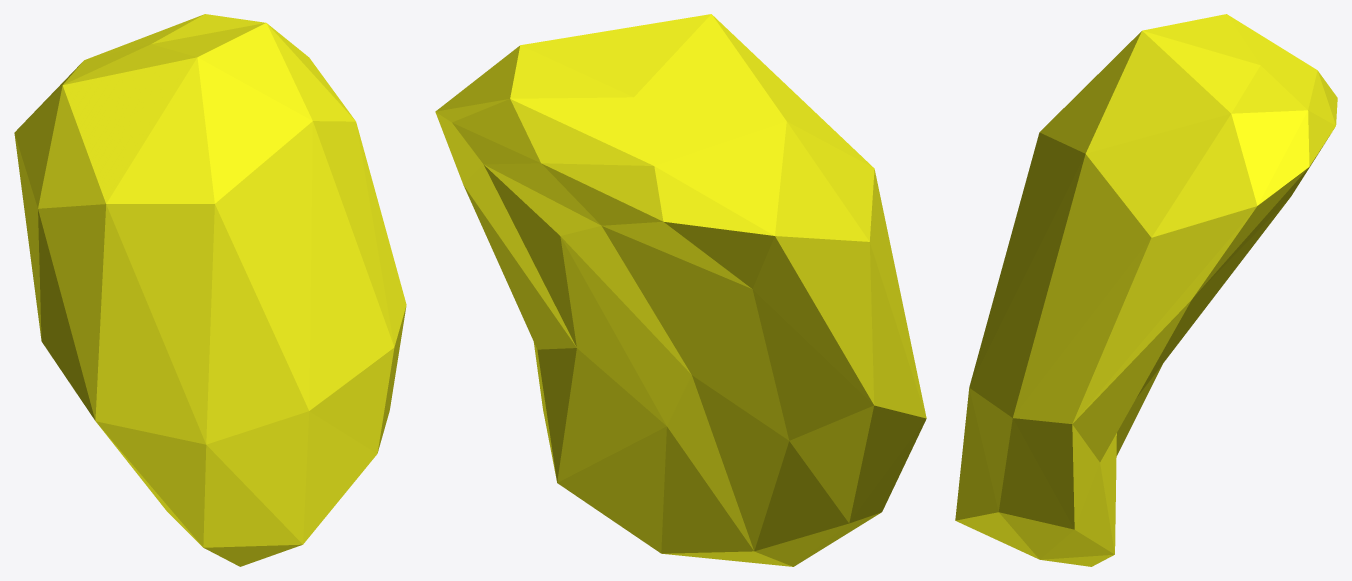
The model's file is FemaleHair.fbx.
3 renders of one model, left to right at view 1: azimuth 30°, elevation 25°; view 2: azimuth 150°, elevation 25°; view 3: azimuth 270°, elevation 25°, orthographic. The views are drawn at different scales.
Parts seen in each view (by area): view 1: Cube.003; view 2: Cube.003; view 3: Cube.003.
Boxes of the visible parts, x1,y1,x2,y2 form: Cube.003: (14,14,406,566); Cube.003: (435,14,926,566); Cube.003: (955,14,1337,566).
Bounding box in the file's own units: 67.63 × 94.77 × 63.23.
